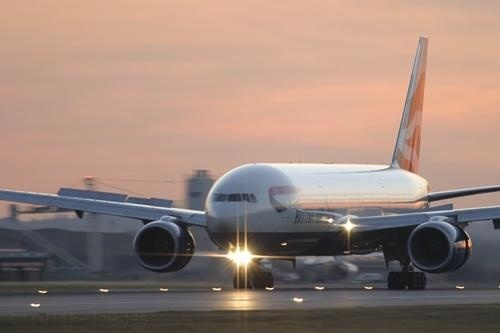aeroplane: (1, 36, 500, 291)
